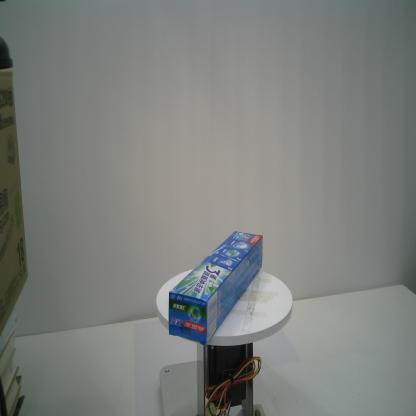Personal Hygiene: (166, 230, 264, 346)
